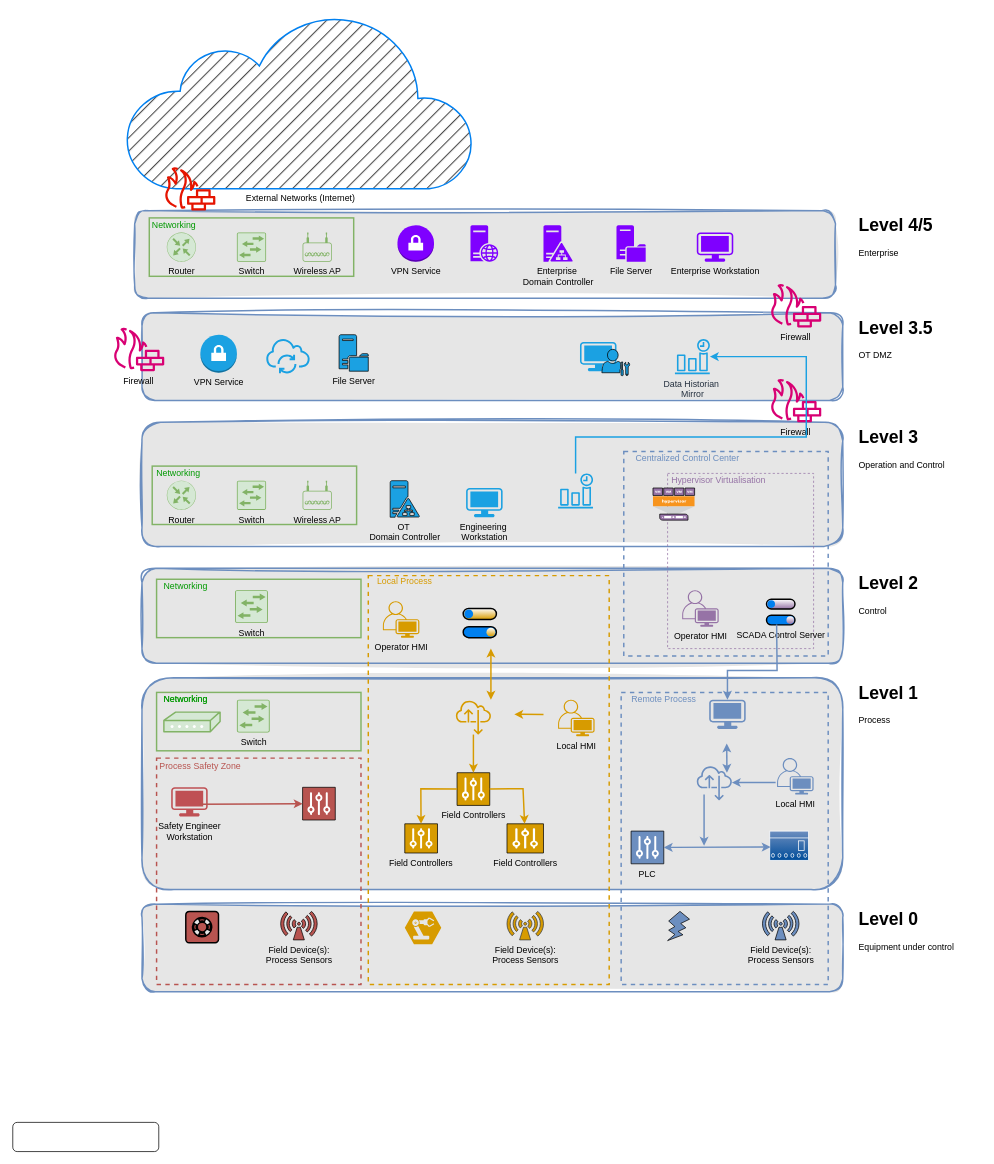
The diagram is 994 pixels wide and 1164 high, and some of its shapes have lost their labels. The shapes that lost their labels are listed below. From the top down, each one's box as (x1, y1, x2, y2) in pixels, then its label:
(163, 166, 216, 211): Firwall
(470, 225, 498, 261): Web Service
(265, 337, 310, 373): Update Service
(579, 341, 616, 371): Jumphost
(558, 473, 593, 508): Data Historian
(652, 487, 695, 520): OT Hypervisor
(462, 607, 497, 638): DCS Control Server
(163, 711, 220, 732): Modem
(455, 699, 491, 735): Data Gateway
(709, 699, 745, 729): RTU
(696, 765, 731, 800): Data Gateway Serial to ethernet
(302, 787, 335, 820): Safety Controller
(769, 830, 808, 860): IED Protection Relay
(185, 910, 219, 943): Field Device: Safety shut off
(404, 911, 441, 944): Field Device(s): Actuators
(667, 911, 689, 941): Field Device(s): circuit breaker
(12, 1122, 159, 1152): https://mitre-engenuity.org/
